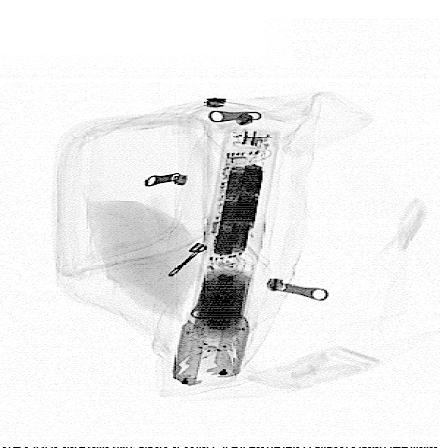Baton: (171, 126, 280, 389)
